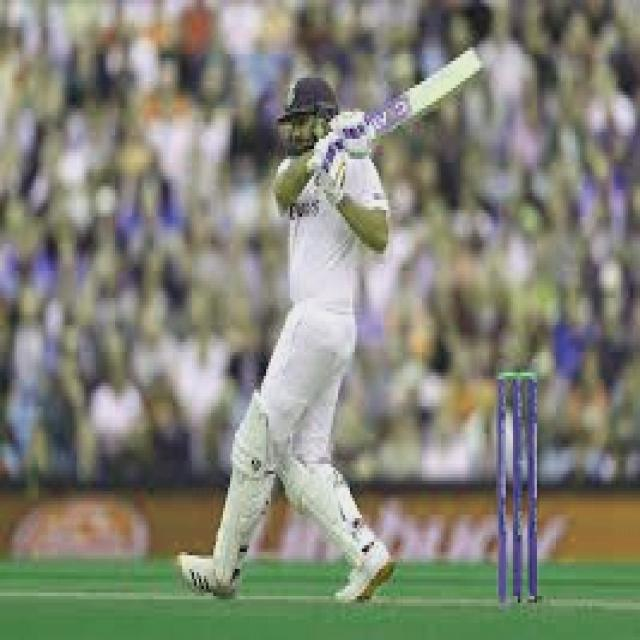toe: (467, 48, 486, 78)
